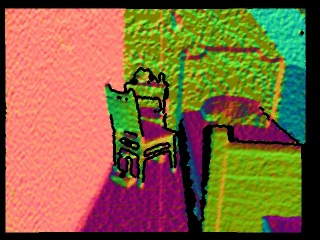station: (110, 152, 138, 189)
